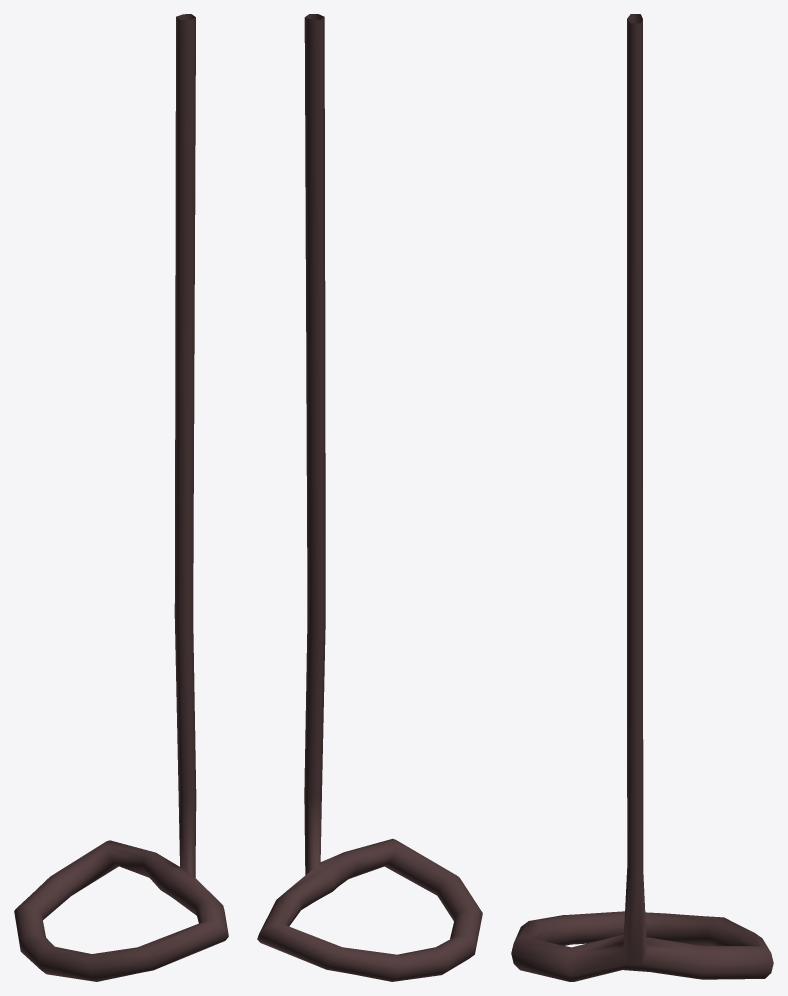
Rendered from SM_BabyDoll_6_rope.fbx.
The picture shows the model from 3 angles, left to right: view 1: azimuth 30°, elevation 25°; view 2: azimuth 150°, elevation 25°; view 3: azimuth 270°, elevation 25°; orthographic projection. The views are drawn at different scales.
Parts seen in each view (by area): view 1: SM_BabyDoll_6_rope; view 2: SM_BabyDoll_6_rope; view 3: SM_BabyDoll_6_rope.
Part boxes in pixels (box(x1,y1,x2,y2)): SM_BabyDoll_6_rope: box(14, 14, 228, 981); SM_BabyDoll_6_rope: box(257, 14, 482, 981); SM_BabyDoll_6_rope: box(511, 14, 773, 981).
Size of the model in its own units: 4.86 by 6.18 by 25.91.
Materials: 1 (1 with a texture image).
